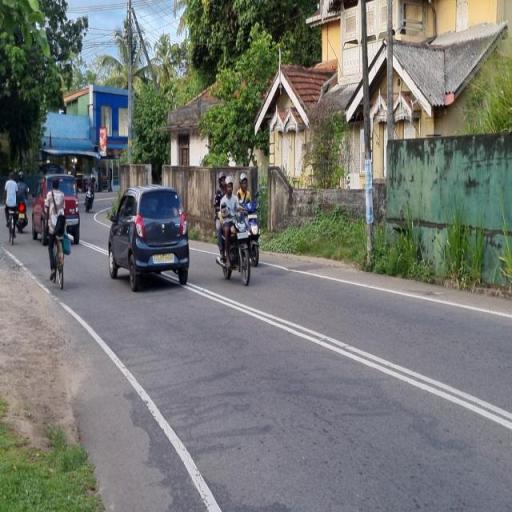double_white_line: (185, 281, 512, 434)
